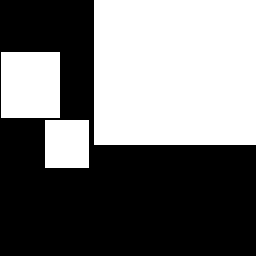rumex: (94, 0, 255, 144), (1, 52, 59, 117), (45, 120, 88, 167)
